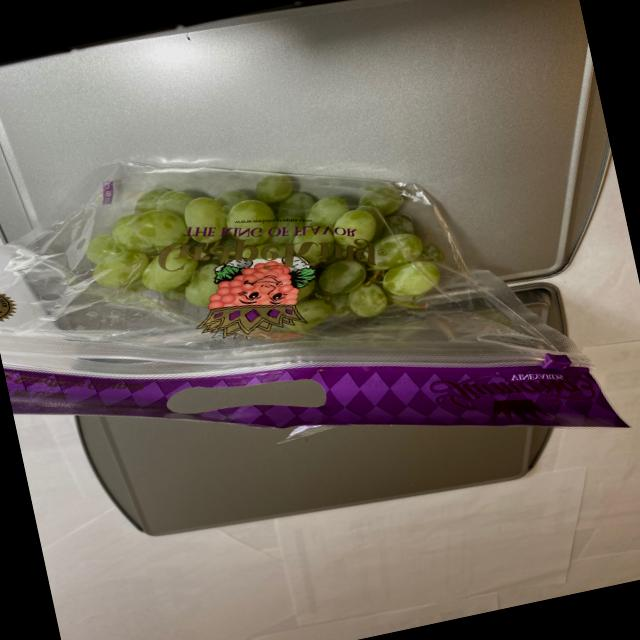grapes: (84, 119, 472, 379)
